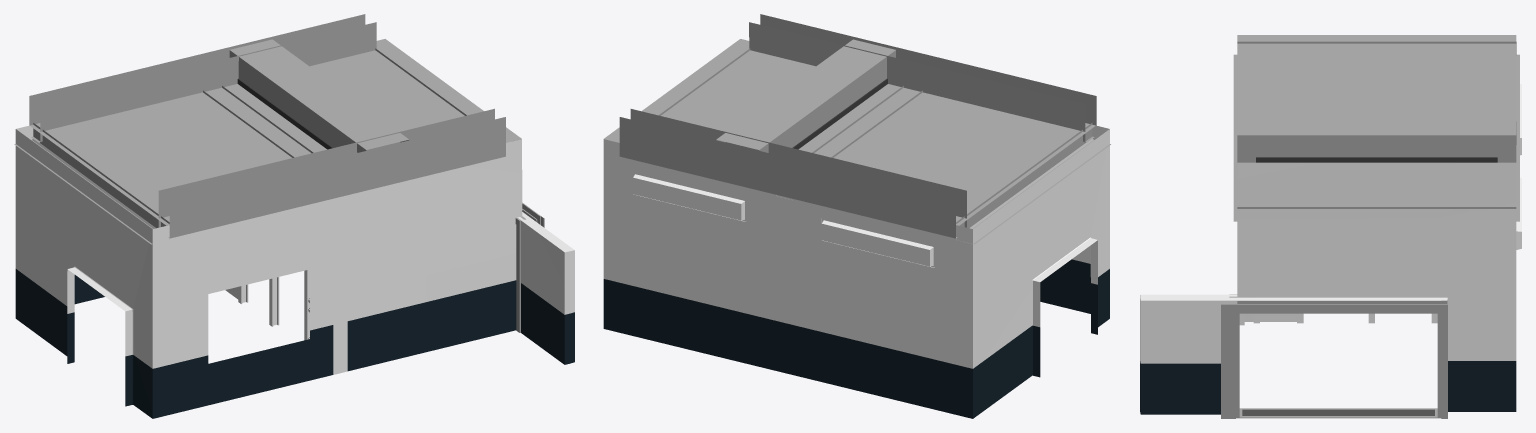
Rendered from SM_H_Building_Tide_Corridor_07_ATLAS.fbx.
3 renders of one model, left to right at view 1: azimuth 30°, elevation 25°; view 2: azimuth 150°, elevation 25°; view 3: azimuth 270°, elevation 25°, orthographic.
Parts seen in each view (by area): view 1: SM_H_Building_Tide_Corridor_07_ATLAS; view 2: SM_H_Building_Tide_Corridor_07_ATLAS; view 3: SM_H_Building_Tide_Corridor_07_ATLAS.
Part boxes in pixels (bbox=[...]): SM_H_Building_Tide_Corridor_07_ATLAS: bbox=[14, 14, 574, 418]; SM_H_Building_Tide_Corridor_07_ATLAS: bbox=[603, 14, 1110, 418]; SM_H_Building_Tide_Corridor_07_ATLAS: bbox=[1140, 35, 1521, 418].
Size of the model in its own units: 1139 by 943 by 605.
